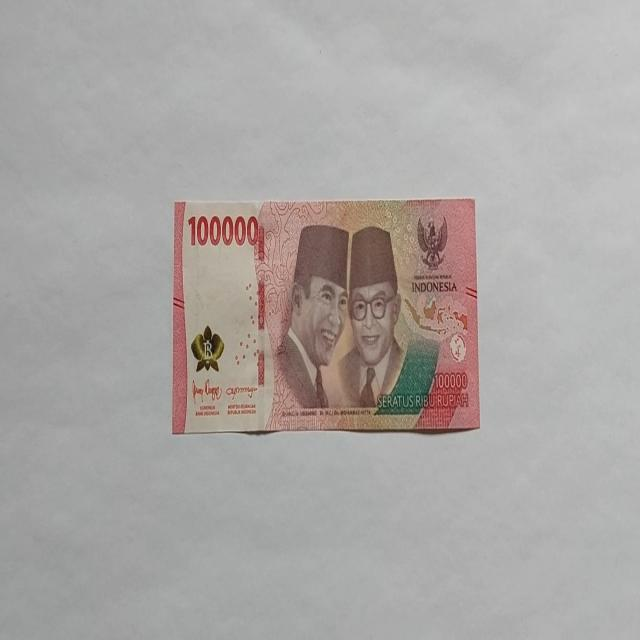seratus ribu rupiah: (172, 197, 480, 436)
